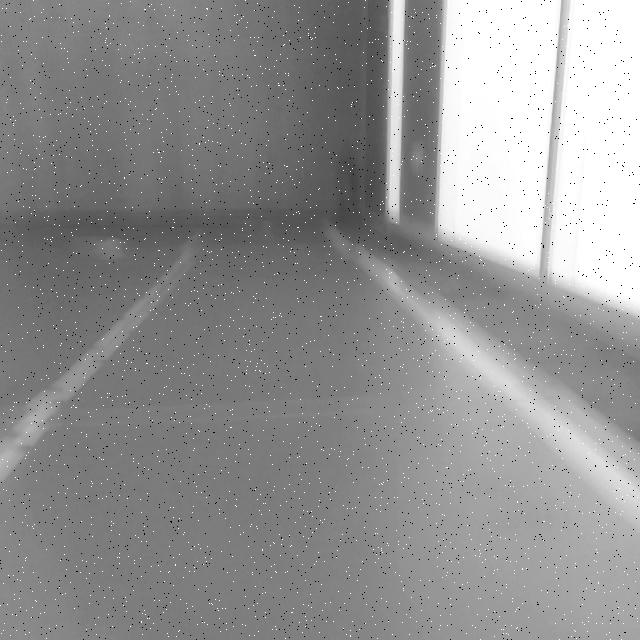left_lane: (323, 226, 640, 531), (0, 249, 194, 487)
